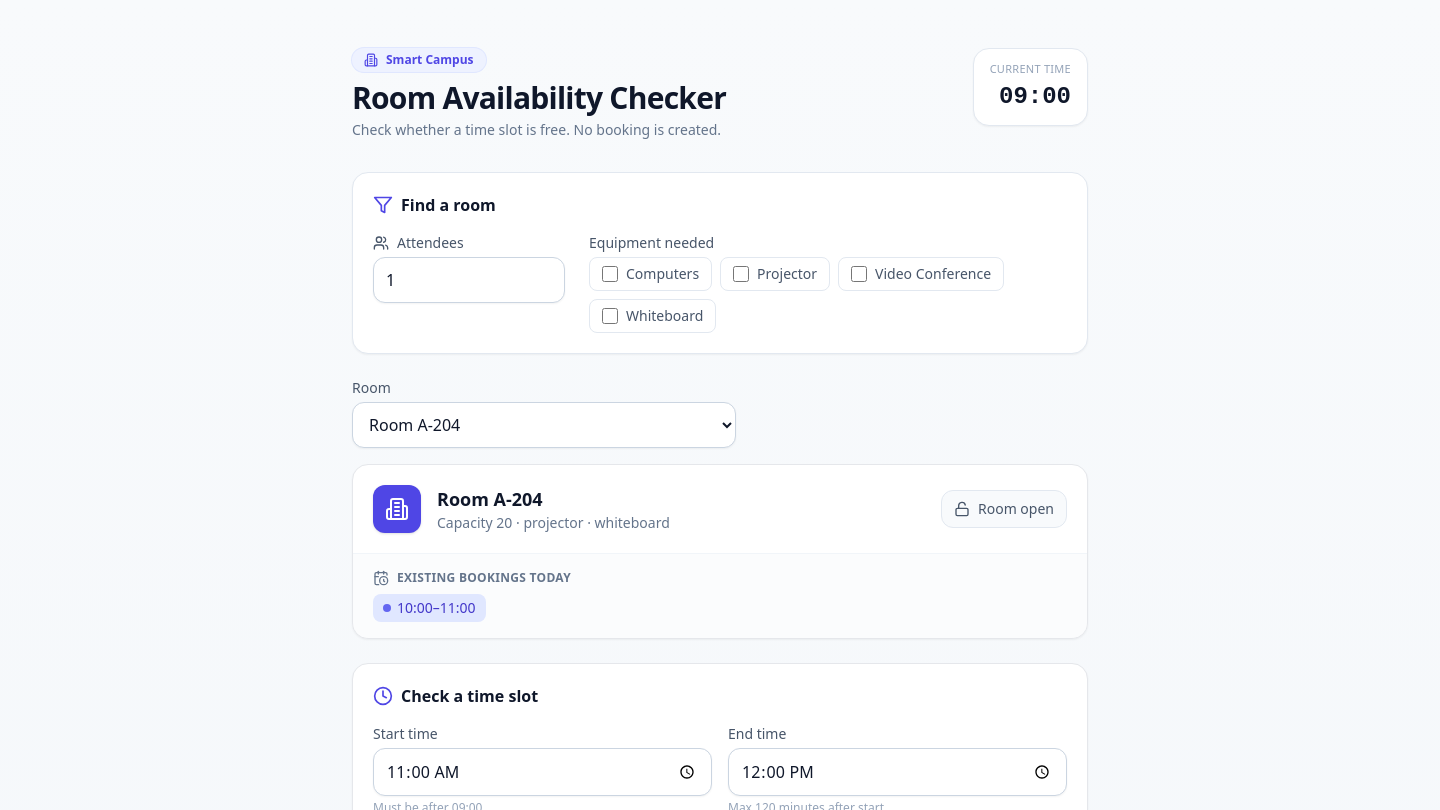
App: empty filter results › shows the empty state and disables the time inputs when nothing matches
Replace the text in the number field with "100": (469, 280) [373,257,565,303]
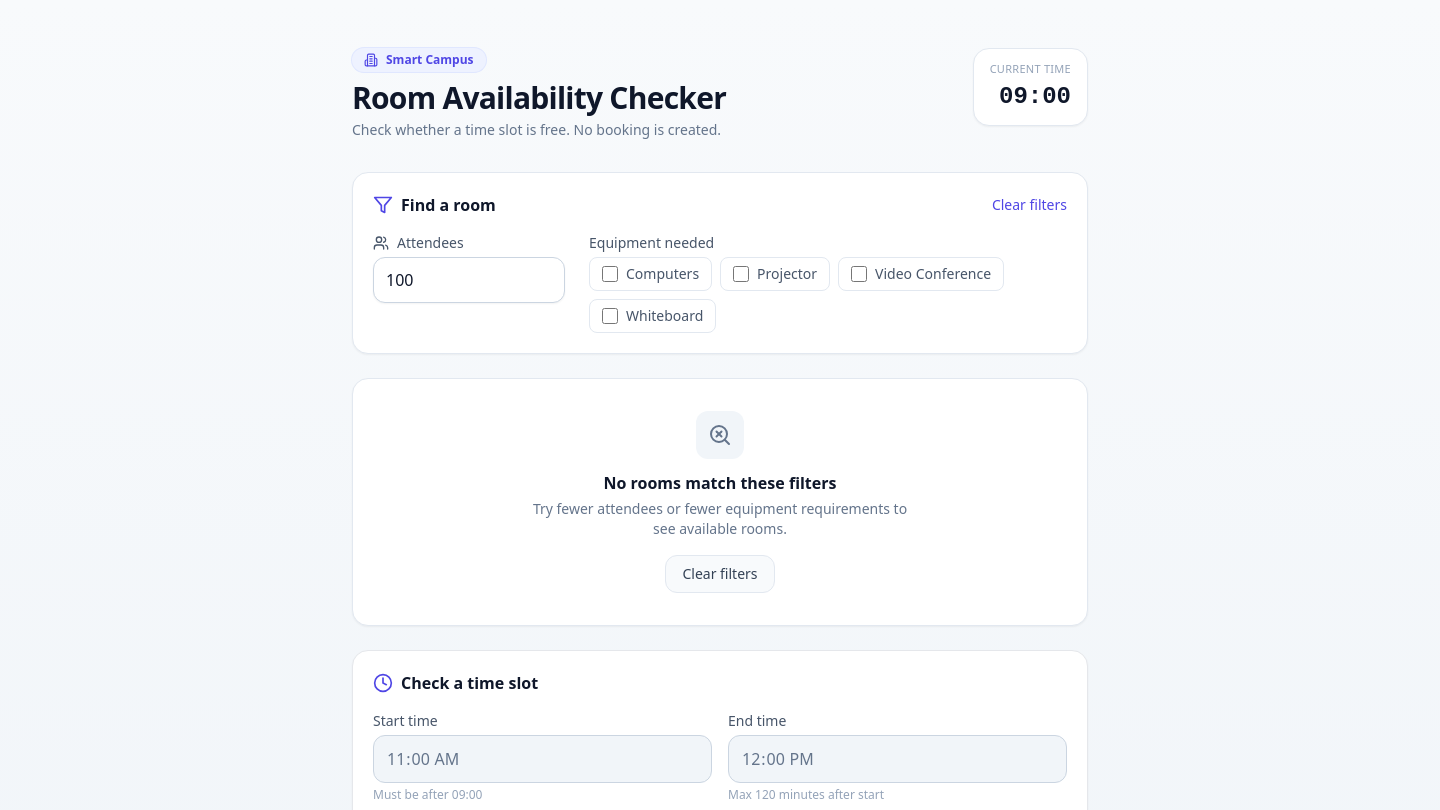
Expected: the heading "No rooms match these filters" is shown, [604,472,836,494]
Expected: the dropdown is gone
Expected: the time field labelled "Start time Must be after 09:00" is disabled, [373,735,712,783]
